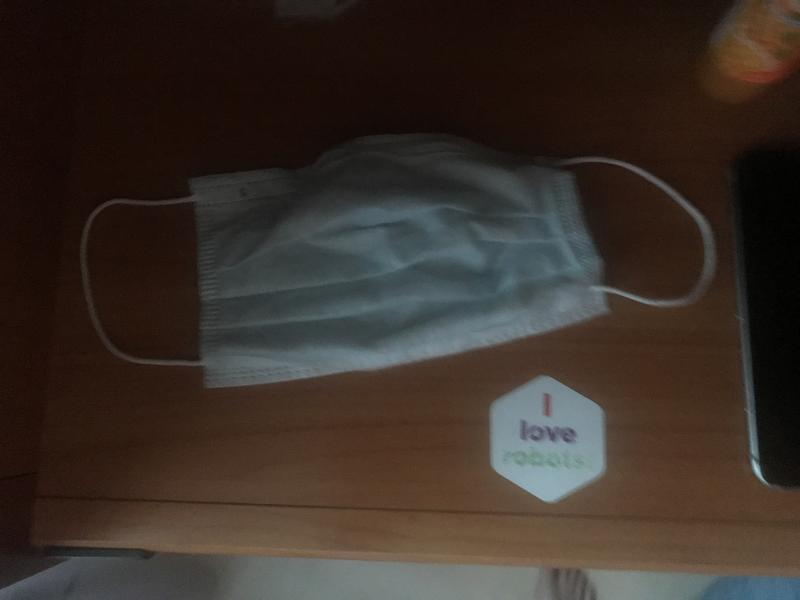medical_mask: (81, 135, 715, 368)
